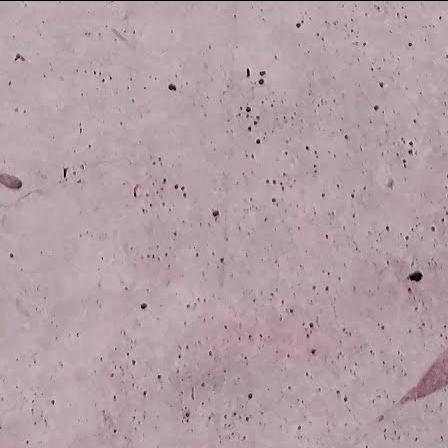spalling: (406, 267, 426, 287)
